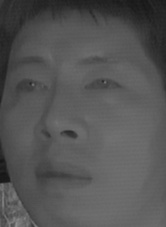eye: (80, 70, 123, 99), (14, 75, 50, 99)
mouth: (29, 156, 91, 195)
